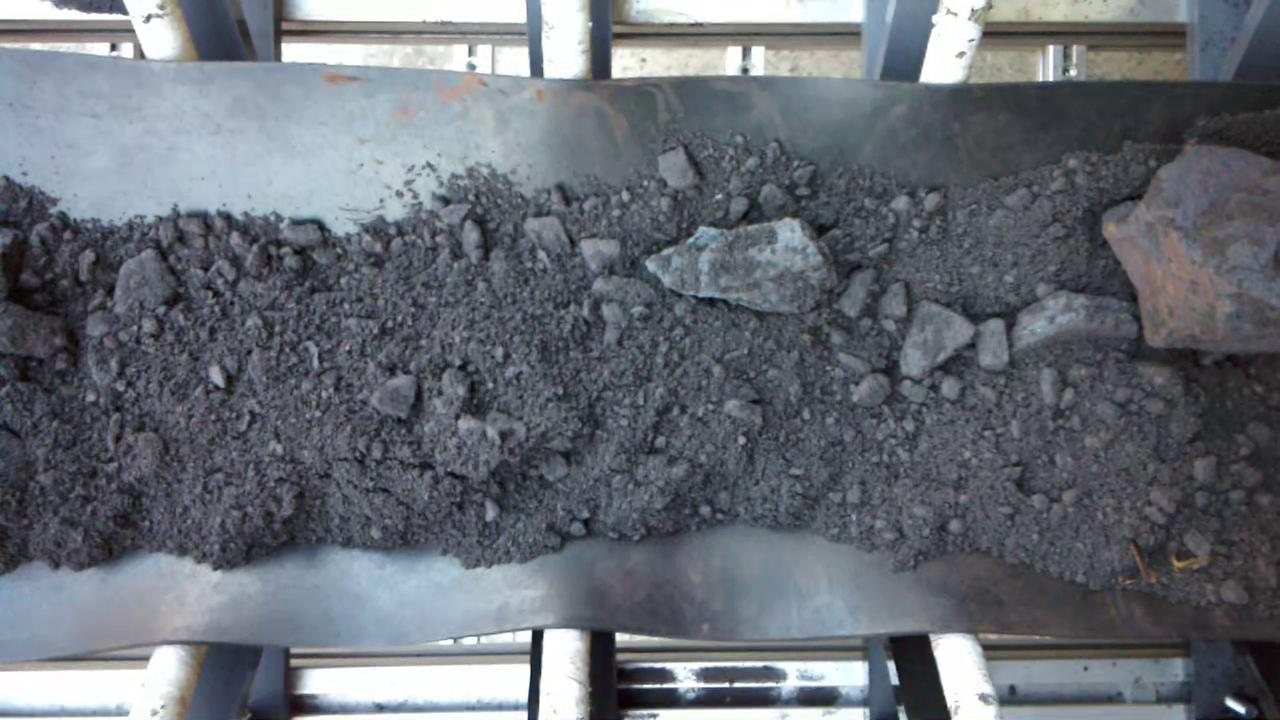conveyor: (15, 89, 1274, 630)
